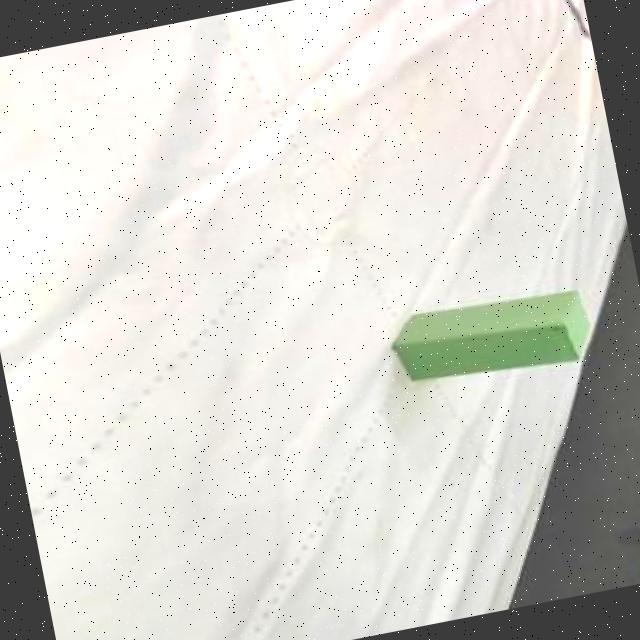greenbox: (385, 280, 598, 396)
